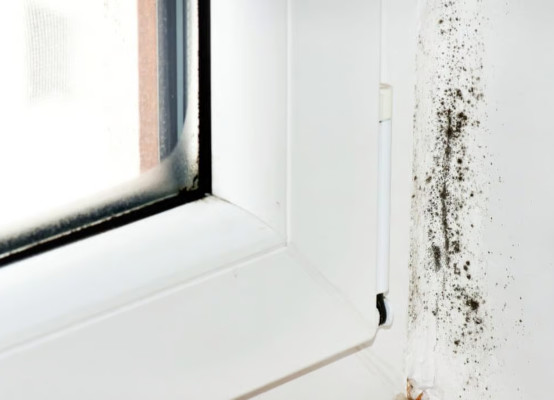schimmel: (416, 21, 495, 351)
